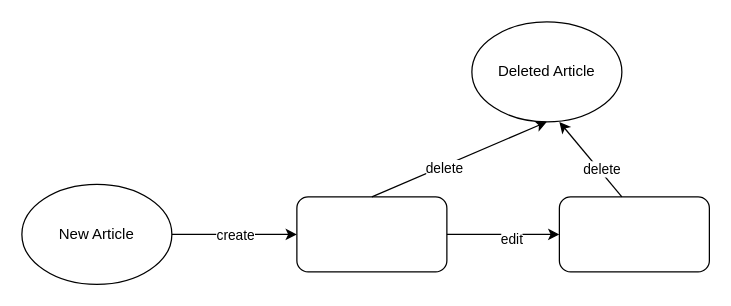
This 731x306 diagram has some shape labels left out. The box of each missing label's shape, as (x1, y1, x2, y2) in pixels:
Created Article: (296, 196, 447, 272)
Edited Article: (558, 196, 709, 272)
